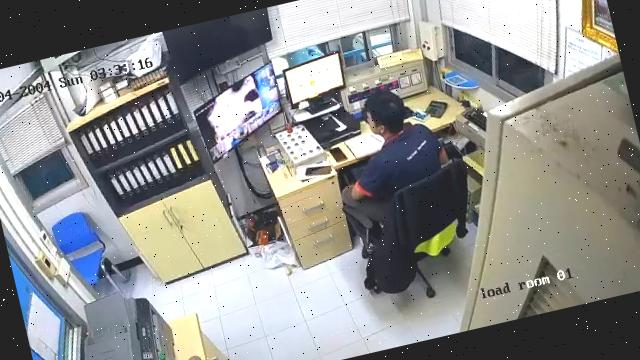Head: (362, 88, 412, 139)
People: (343, 93, 449, 224)
Phone: (328, 147, 349, 163), (304, 165, 332, 175)
